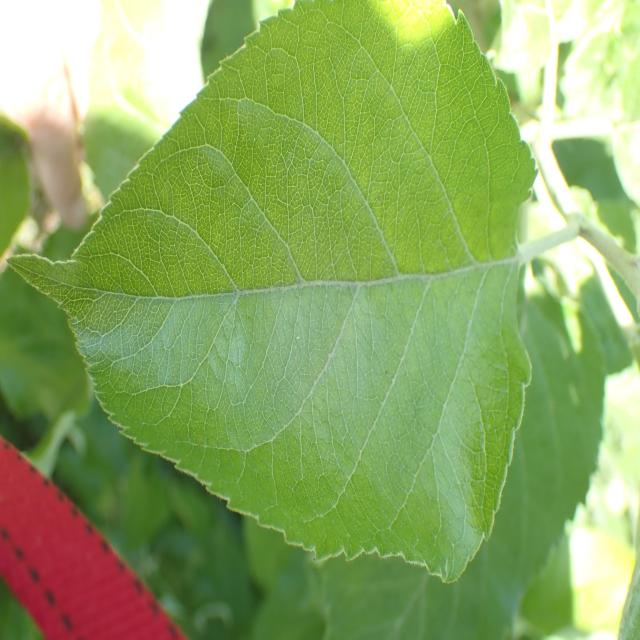healthy: (4, 0, 536, 582)
